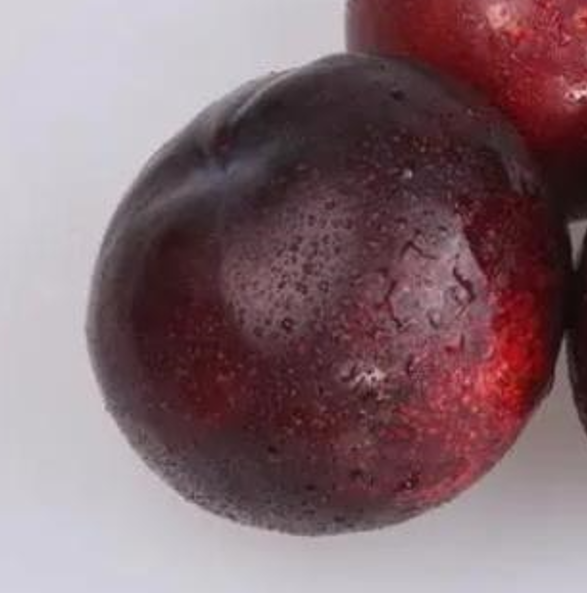plum_A: (86, 55, 574, 536)
